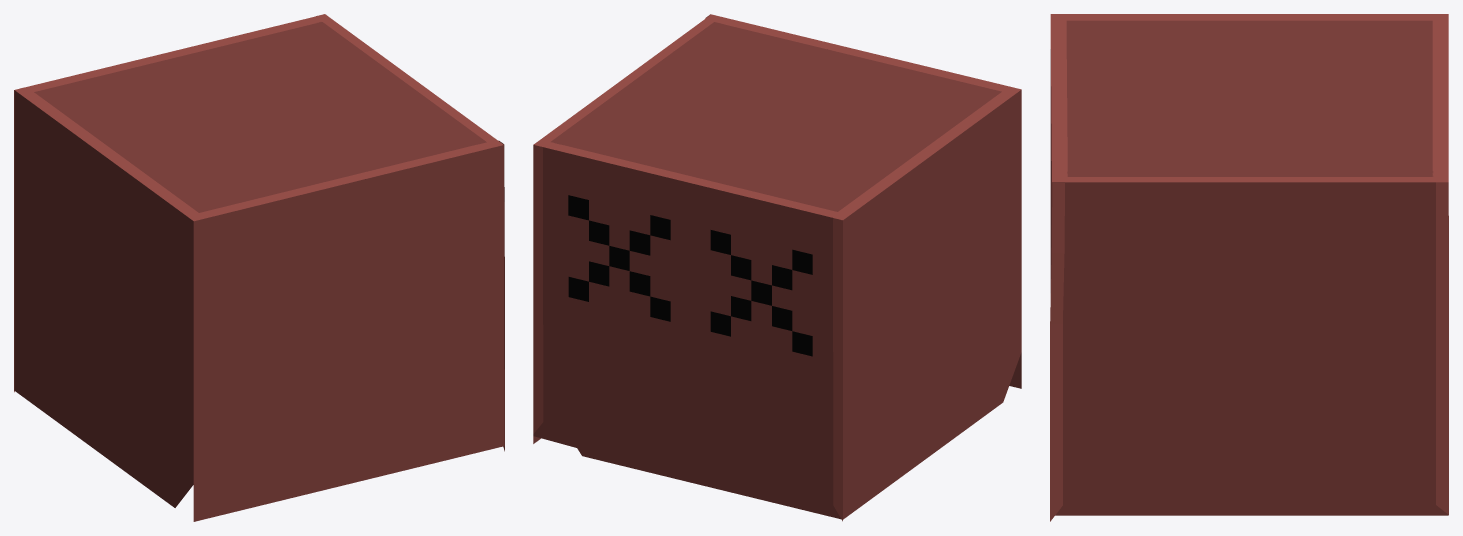
Rendered from Paperboy.fbx.
3 views of the same model, side by side, from view 1: azimuth 30°, elevation 25°; view 2: azimuth 150°, elevation 25°; view 3: azimuth 270°, elevation 25° (orthographic). The views are drawn at different scales.
Visible parts, largest first — view 1: Cube.080; view 2: Cube.080; view 3: Cube.080.
Boxes of the visible parts, x1,y1,x2,y2 form: Cube.080: [14, 14, 504, 521]; Cube.080: [533, 14, 1021, 521]; Cube.080: [1050, 14, 1448, 521].
Size of the model in its own units: 110 by 104 by 110.
